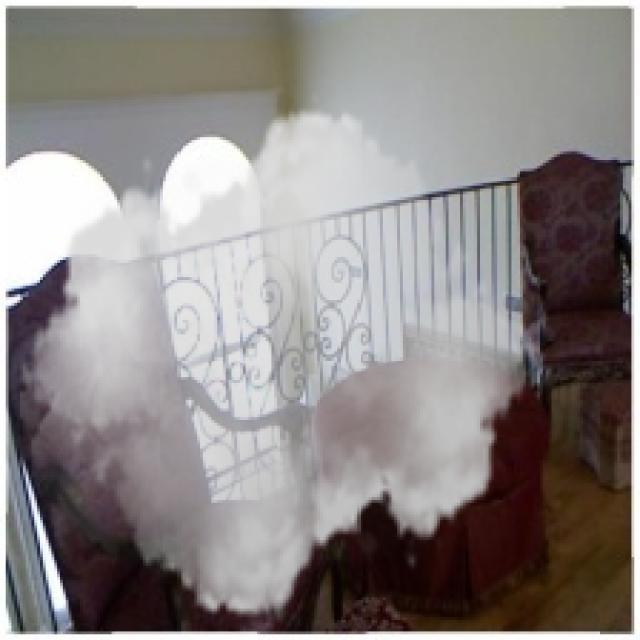Smoke: (20, 88, 540, 638)
